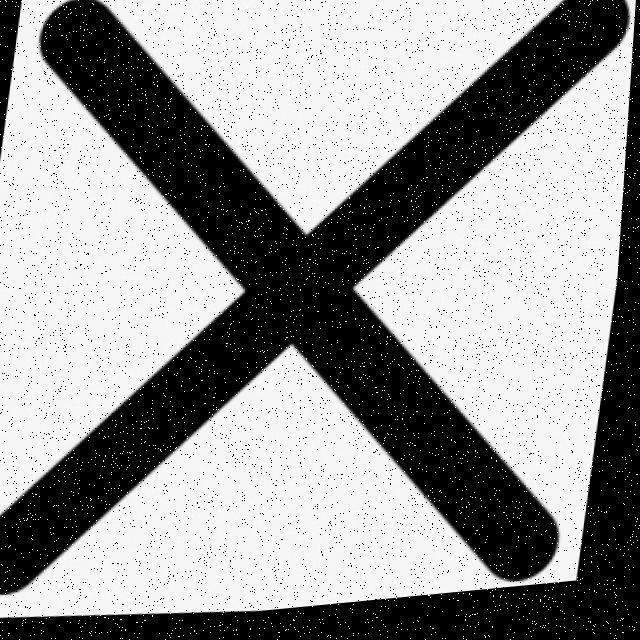cross: (5, 2, 635, 612)
